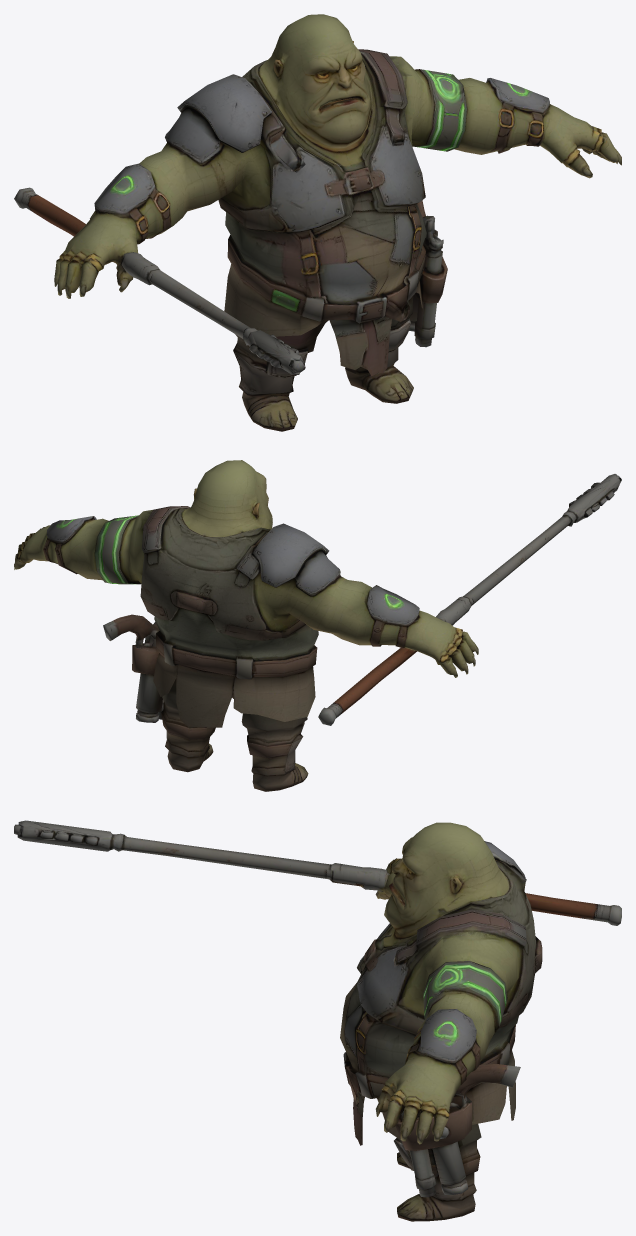
The model's file is selected.glb.
3 views of the same model, one above another, from view 1: azimuth 30°, elevation 25°; view 2: azimuth 150°, elevation 25°; view 3: azimuth 270°, elevation 25° (orthographic). The views are drawn at different scales.
Visible parts, largest first — view 1: tripo_node_2e5bf2d6-c551-484c-b137-cb33facdcc00; view 2: tripo_node_2e5bf2d6-c551-484c-b137-cb33facdcc00; view 3: tripo_node_2e5bf2d6-c551-484c-b137-cb33facdcc00.
Boxes of the visible parts, x1,y1,x2,y2 form: tripo_node_2e5bf2d6-c551-484c-b137-cb33facdcc00: [14, 14, 621, 431]; tripo_node_2e5bf2d6-c551-484c-b137-cb33facdcc00: [14, 460, 621, 791]; tripo_node_2e5bf2d6-c551-484c-b137-cb33facdcc00: [14, 820, 621, 1221].
Bounding box in the file's own units: 0.998 × 0.6582 × 0.998.
Materials: 1 (1 with a texture image).
